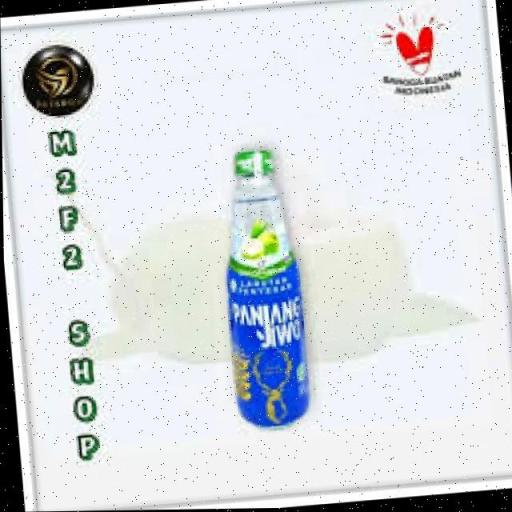plastic: (214, 138, 315, 436)
